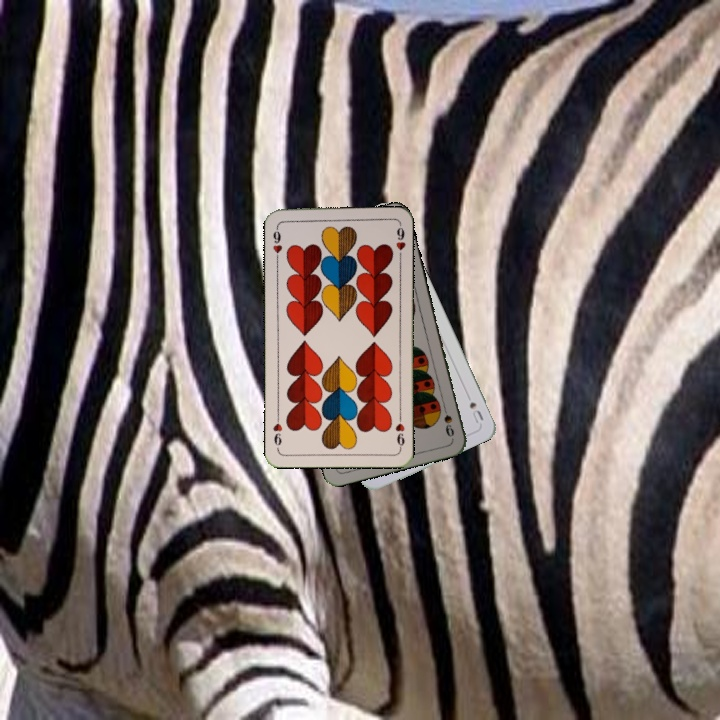H9: (391, 410, 407, 451), (269, 222, 285, 263)
S9: (439, 400, 457, 440)
SU: (465, 398, 486, 426)
